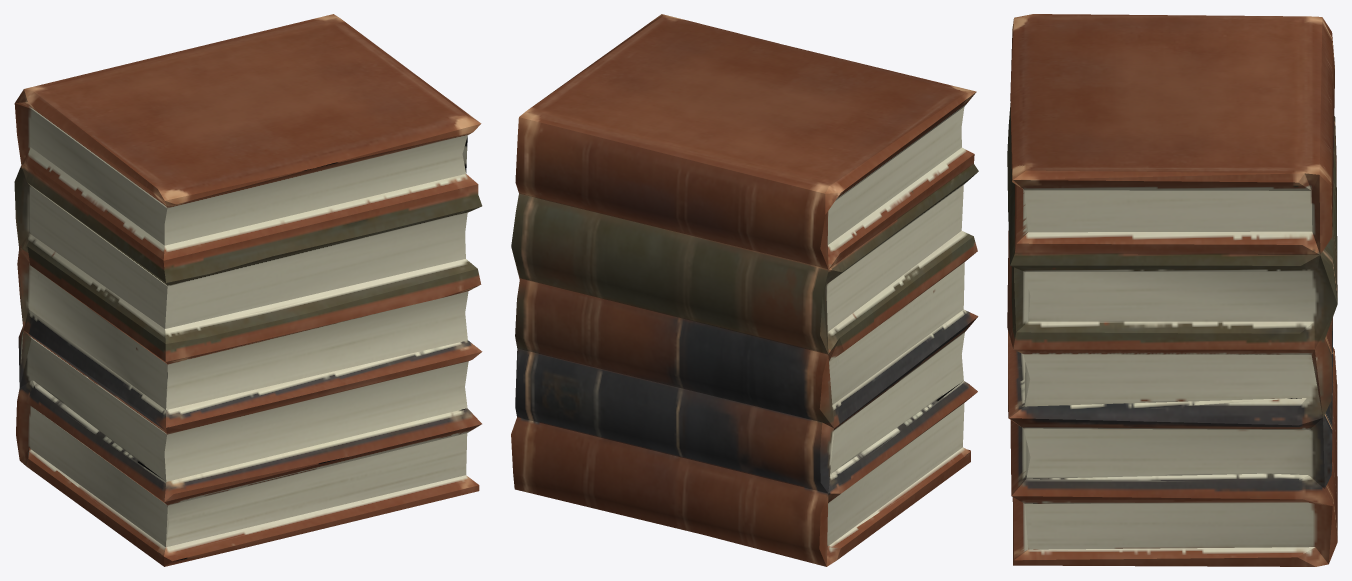
File: book_stack_lod0.glb
3 views of the same model, side by side, from view 1: azimuth 30°, elevation 25°; view 2: azimuth 150°, elevation 25°; view 3: azimuth 270°, elevation 25° (orthographic). The views are drawn at different scales.
Parts seen in each view (by area): view 1: low; view 2: low; view 3: low.
Boxes of the visible parts, x1=… form: low: x1=14, y1=14, x2=482, y2=566; low: x1=511, y1=14, x2=978, y2=566; low: x1=1007, y1=14, x2=1337, y2=566.
Size of the model in its own units: 0.3981 by 0.4479 by 0.3396.
1 material, 1 textured.
